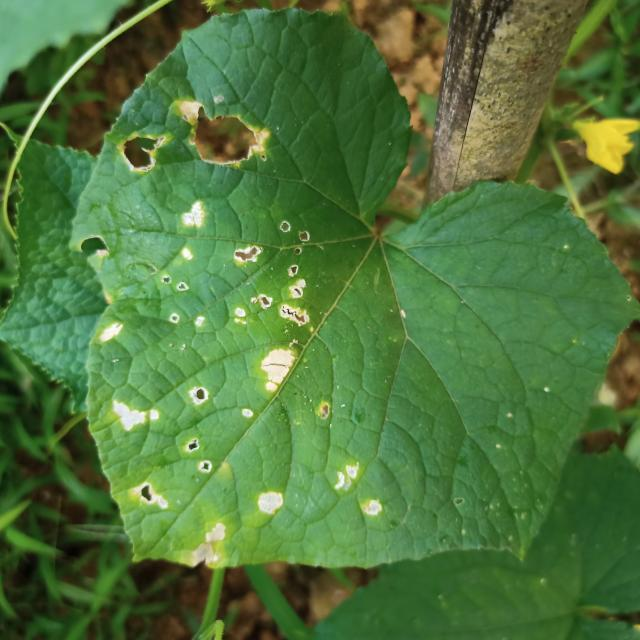disease_cucumber: (230, 216, 325, 335), (172, 97, 278, 172), (334, 462, 386, 520), (117, 133, 169, 179), (260, 343, 301, 399), (111, 397, 160, 434), (194, 521, 226, 565), (185, 438, 218, 476), (177, 197, 209, 234), (133, 480, 169, 511), (96, 317, 127, 350), (258, 490, 284, 517), (191, 386, 212, 405)
